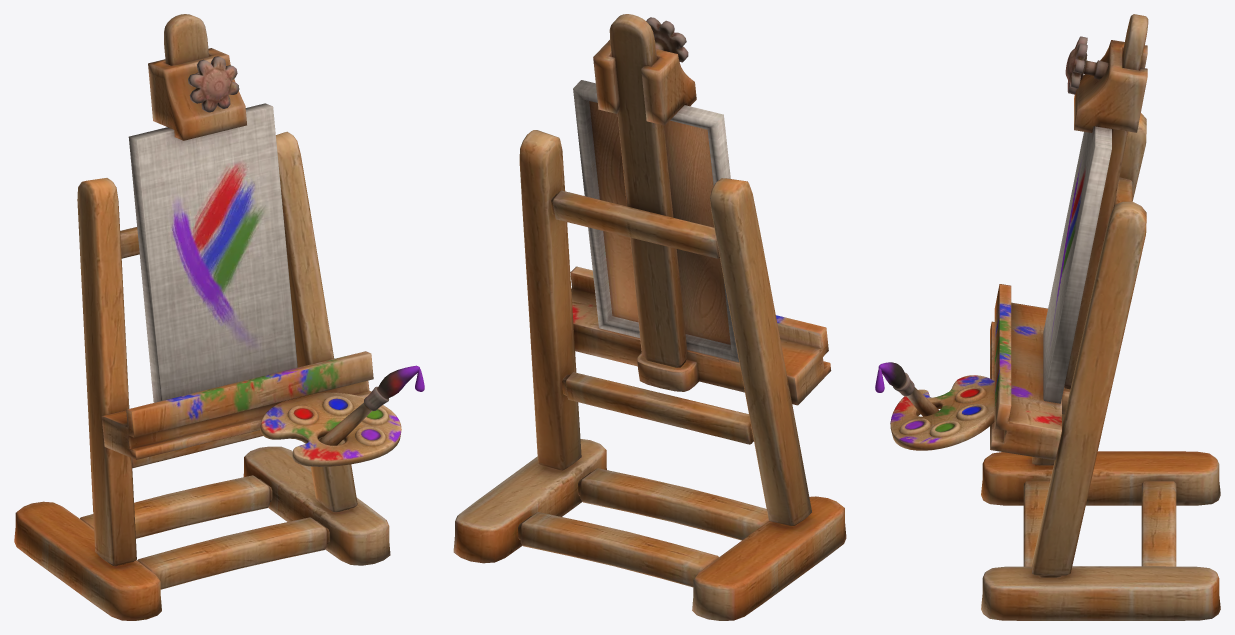
Rendered from easel_cartoon-transformed.glb.
The picture shows the model from 3 angles, left to right: view 1: azimuth 30°, elevation 25°; view 2: azimuth 150°, elevation 25°; view 3: azimuth 270°, elevation 25°; orthographic projection. The views are drawn at different scales.
Parts seen in each view (by area): view 1: Object_2; view 2: Object_2; view 3: Object_2.
Part boxes in pixels (<box>): Object_2: <box>14,14,424,620</box>; Object_2: <box>453,14,846,620</box>; Object_2: <box>875,14,1220,620</box>.
Size of the model in its own units: 1.28 by 2.28 by 1.34.
Materials: 1 (1 with a texture image).
